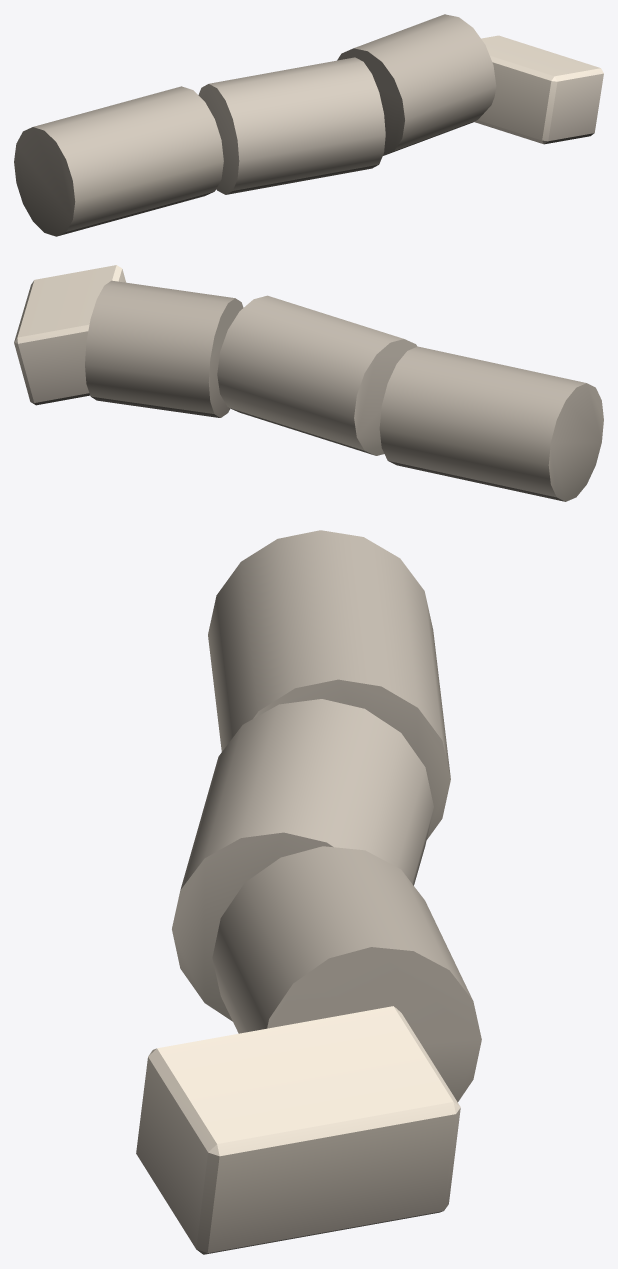
The model's file is SM_VKI_Prop_Column_Fallen.fbx.
3 views of the same model, one above another, from view 1: azimuth 30°, elevation 25°; view 2: azimuth 150°, elevation 25°; view 3: azimuth 270°, elevation 25° (orthographic). The views are drawn at different scales.
Parts seen in each view (by area): view 1: SM_VKI_Prop_Column_Fallen.001; view 2: SM_VKI_Prop_Column_Fallen.001; view 3: SM_VKI_Prop_Column_Fallen.001.
Part boxes in pixels (x1,y1,x2,y2): SM_VKI_Prop_Column_Fallen.001: (14, 14, 603, 236); SM_VKI_Prop_Column_Fallen.001: (14, 265, 603, 501); SM_VKI_Prop_Column_Fallen.001: (136, 530, 481, 1254).
Bounding box in the file's own units: 2.8 × 0.5496 × 0.7815.
